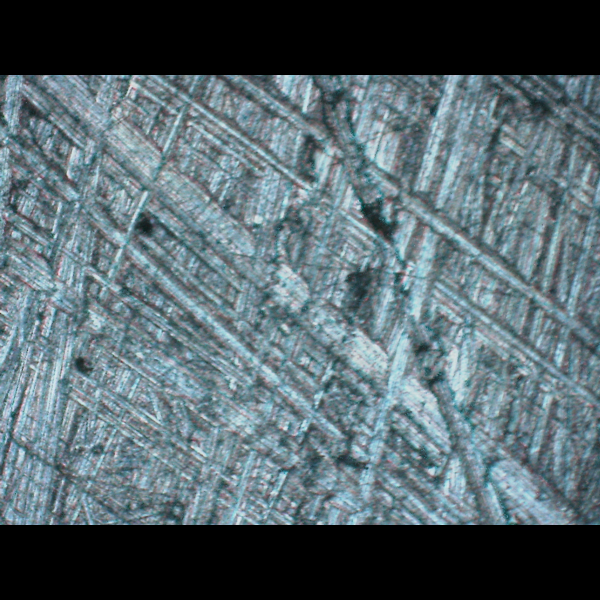d: (97, 74, 599, 516)
